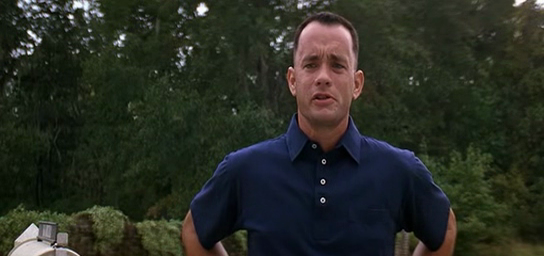face: (295, 36, 353, 124)
mcu: (1, 1, 544, 256)
person: (180, 11, 458, 256)
